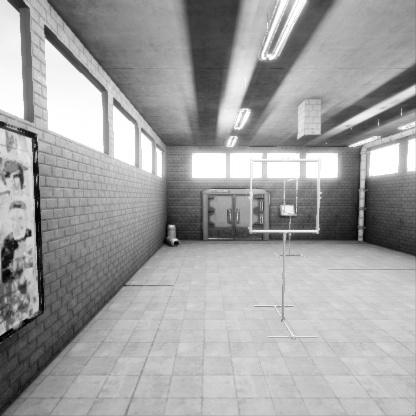gate: (251, 187, 323, 258), (283, 202, 297, 239)
